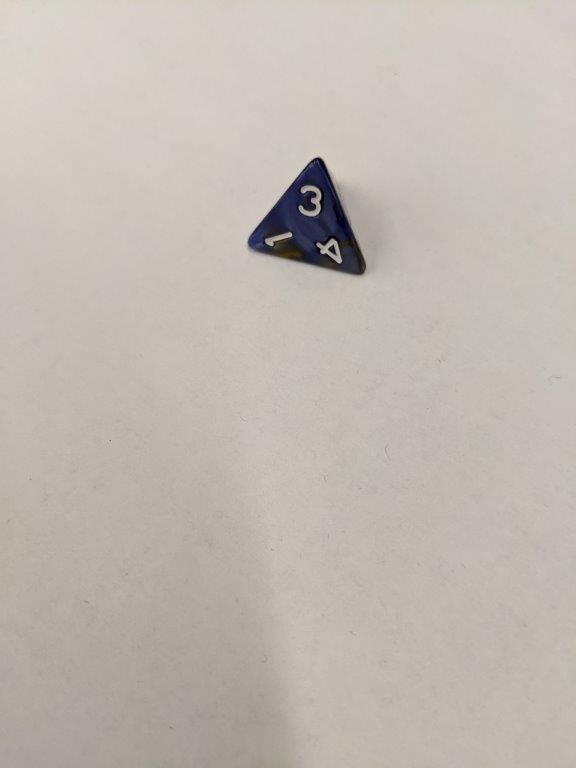d4-3: (246, 154, 370, 285)
